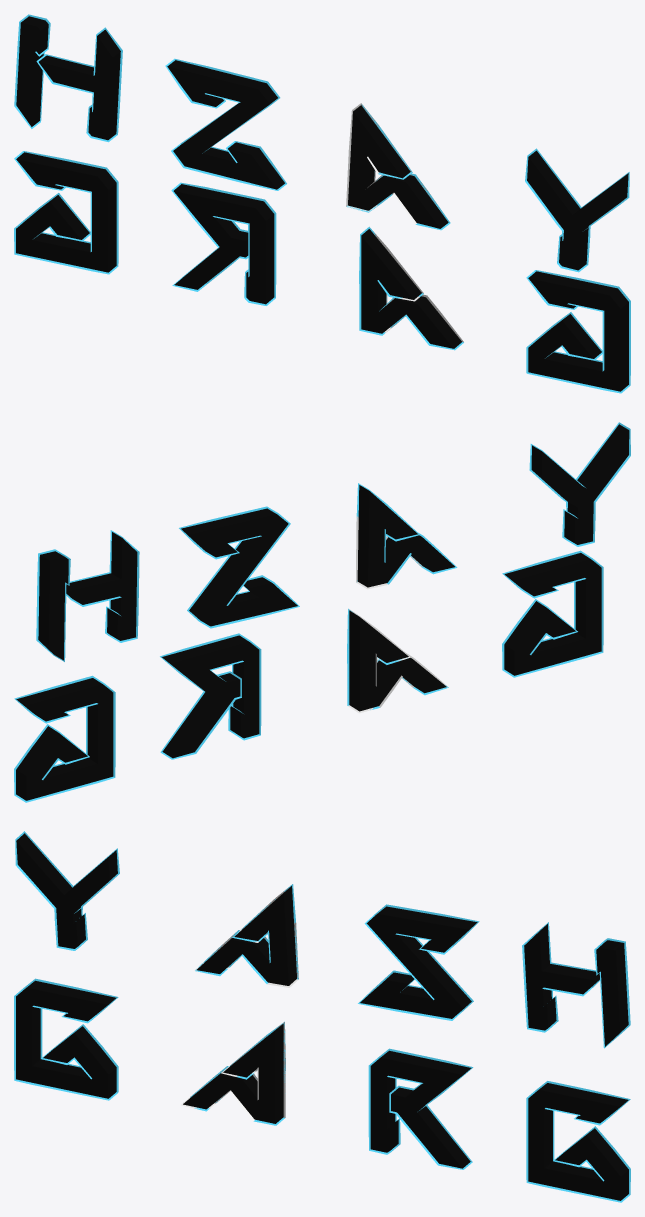
The picture shows the model from 3 angles, top to bottom: view 1: azimuth 90°, elevation 25°; view 2: azimuth 150°, elevation 25°; view 3: azimuth 270°, elevation 25°; orthographic projection.
Visible parts, largest first — view 1: A_OL_Mtl_0.001, H_OL_Mtl_0; view 2: A_OL_Mtl_0.001, H_OL_Mtl_0; view 3: A_OL_Mtl_0.001, H_OL_Mtl_0.
Part boxes in pixels (left/top/right/bottom): A_OL_Mtl_0.001: left=14, top=151, right=630, bottom=393; H_OL_Mtl_0: left=14, top=14, right=629, bottom=272; A_OL_Mtl_0.001: left=14, top=550, right=603, bottom=802; H_OL_Mtl_0: left=36, top=422, right=630, bottom=661; A_OL_Mtl_0.001: left=14, top=978, right=630, bottom=1202; H_OL_Mtl_0: left=15, top=831, right=630, bottom=1048.
Size of the model in its own units: 0.1961 by 0.1533 by 0.3357.
